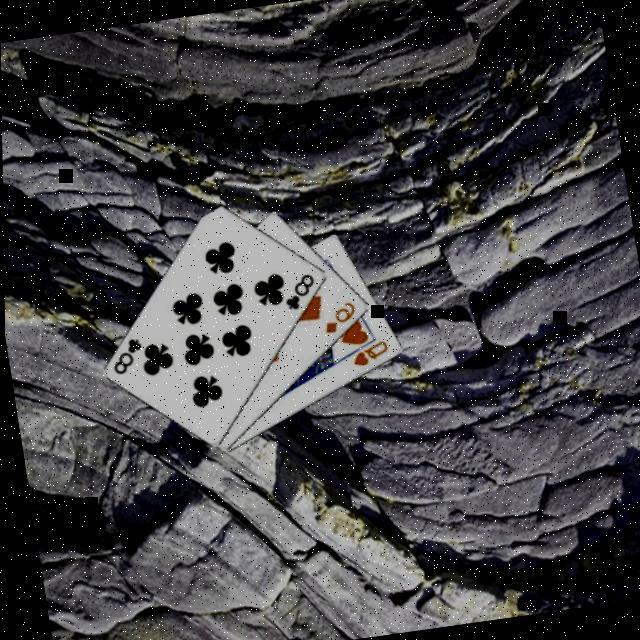6D: (316, 299, 358, 338)
8C: (276, 270, 319, 316), (104, 334, 146, 380)
QH: (346, 338, 390, 372)
